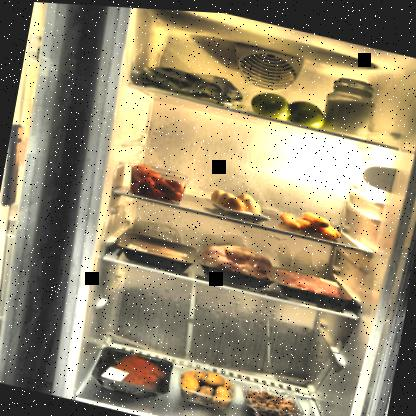apple: (244, 82, 330, 127)
beef: (90, 341, 174, 402)
carrot: (274, 200, 348, 240)
chicken: (195, 228, 281, 290), (114, 227, 198, 272)
eggs: (206, 181, 266, 219)
ground_beef: (268, 260, 358, 308)
potato: (176, 362, 238, 406)
shrimp: (236, 377, 309, 415)
spinach: (126, 52, 249, 110)
strawberries: (126, 159, 188, 203)
